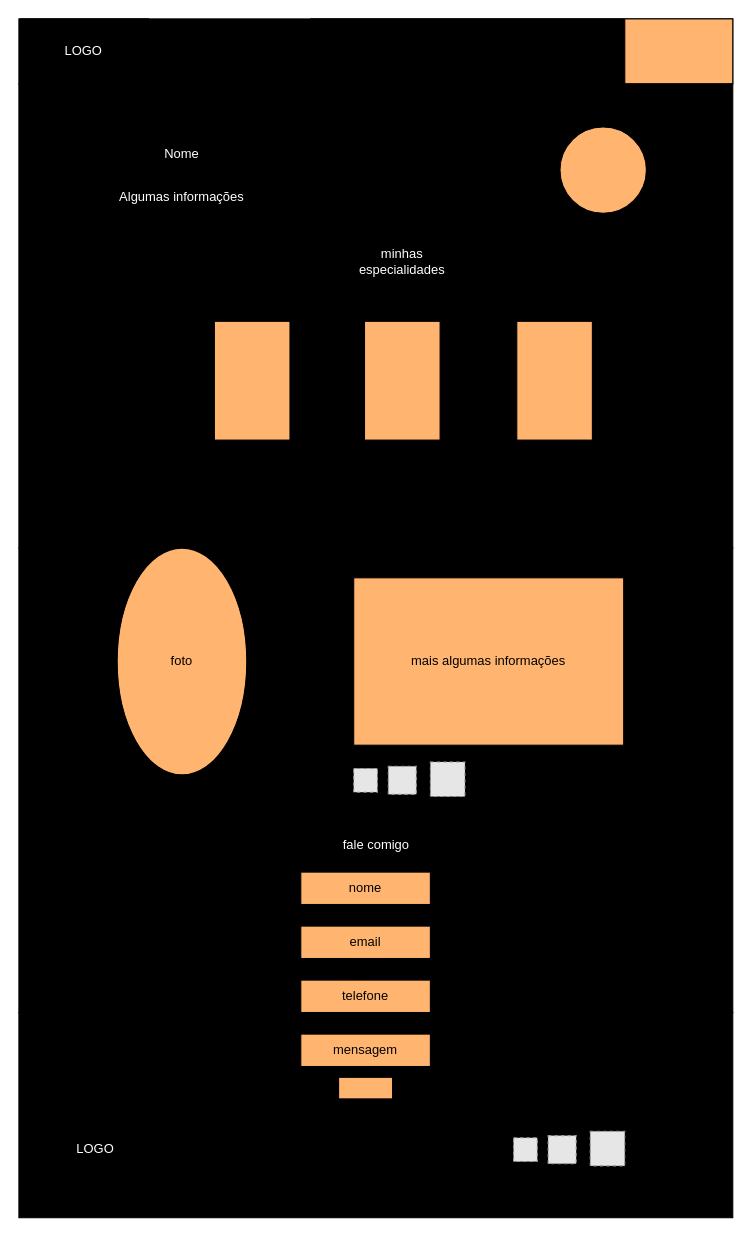
The diagram is 752 pixels wide and 1237 high, and some of its shapes have lost their labels. Grey dashed boxes stand in for pictures. Here are the shapes that lost their labels. From the top down, the box of each, then its label:
(309, 18, 624, 84): inicio sobre especialidades projetos
(624, 18, 733, 84): contato
(559, 126, 646, 213): foto se mexendo
(338, 1076, 393, 1099): enviar
